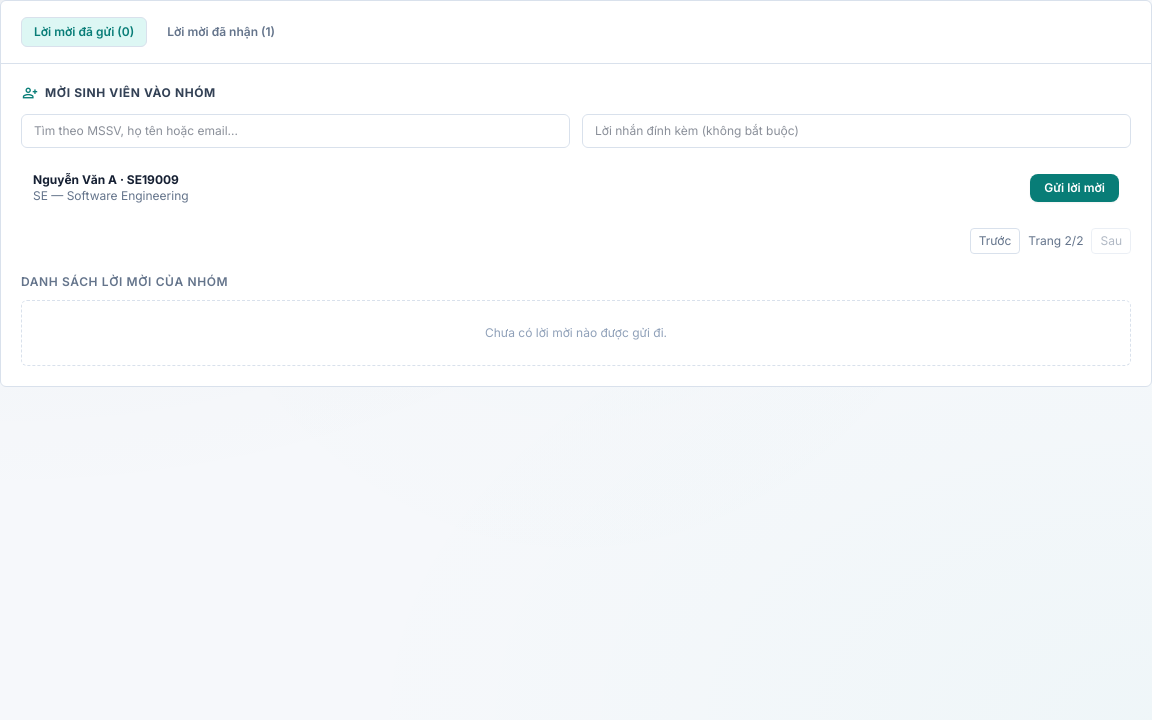
TeamInvitationsPanel › renders invitation message safely without executing script tags (XSS protection)
Click the button "Lời mời đã nhận (1)". click: (221, 32)
box: [155,18,287,46]
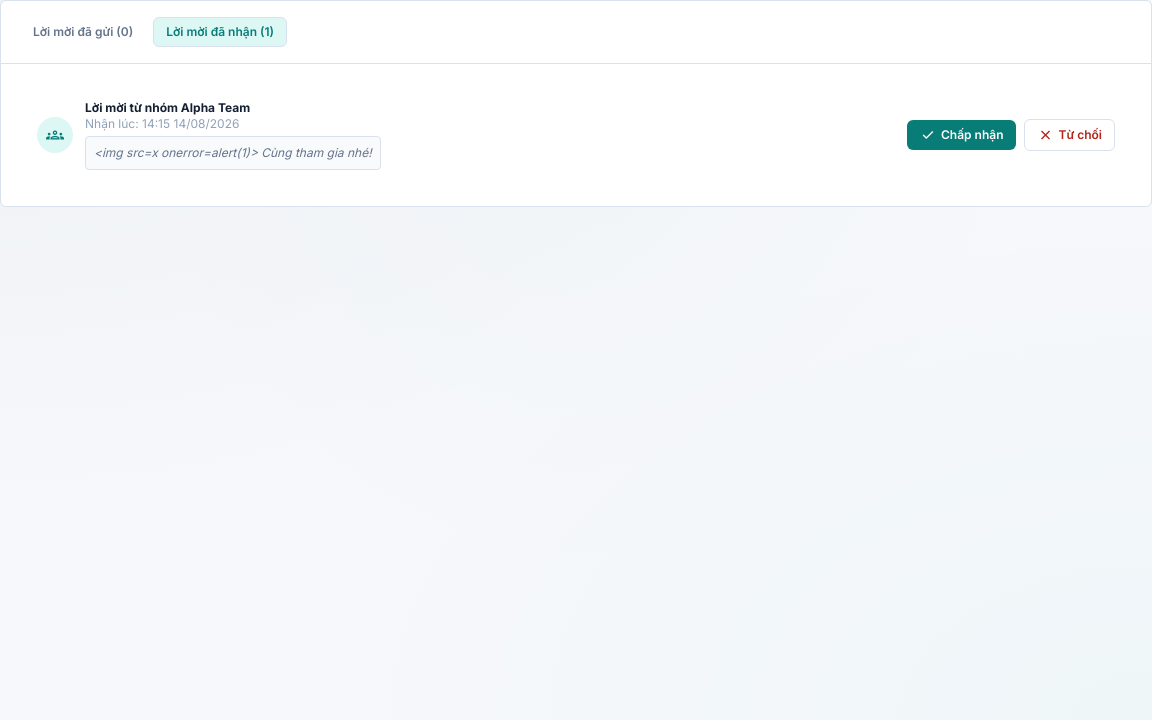
Expected: the text "<img src=x onerror=alert(1)> Cùng tham gia nhé!" is shown, [85,136,381,170]
